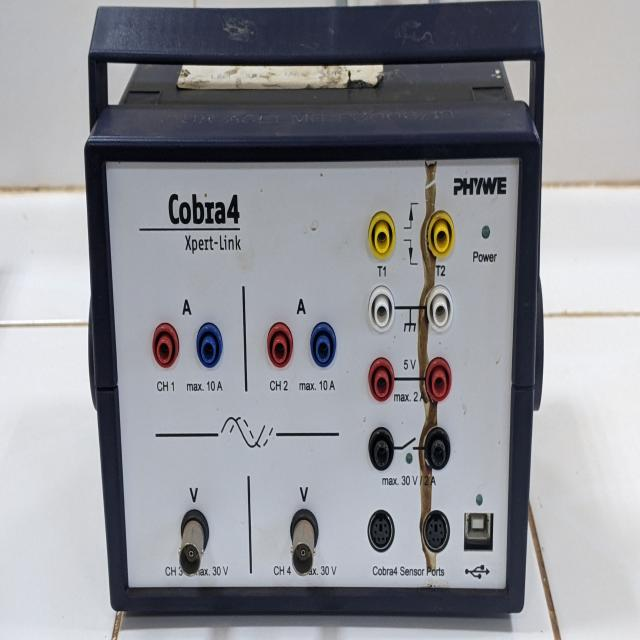Power Supply of Speed of Light Demo: (75, 15, 571, 629)
